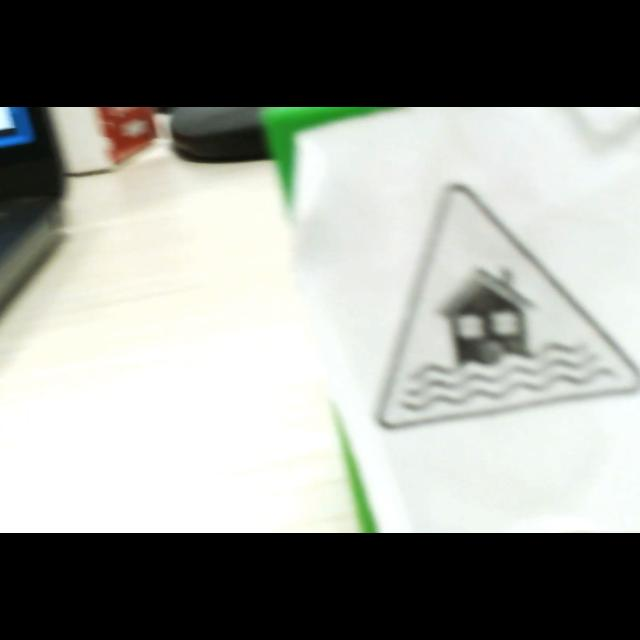Tsunami: (377, 185, 640, 431)
